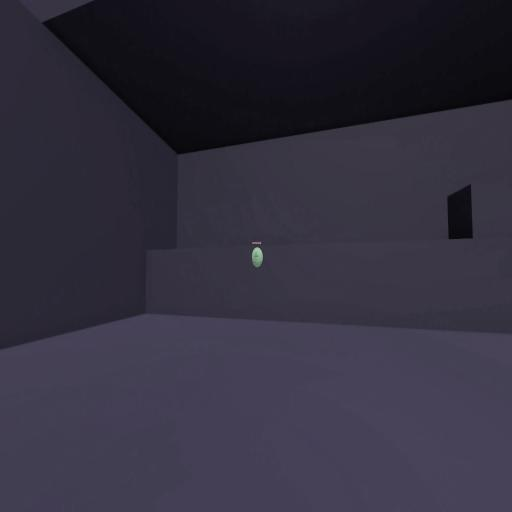Crosshair: (254, 252, 258, 260)
Target: (252, 245, 264, 268)
